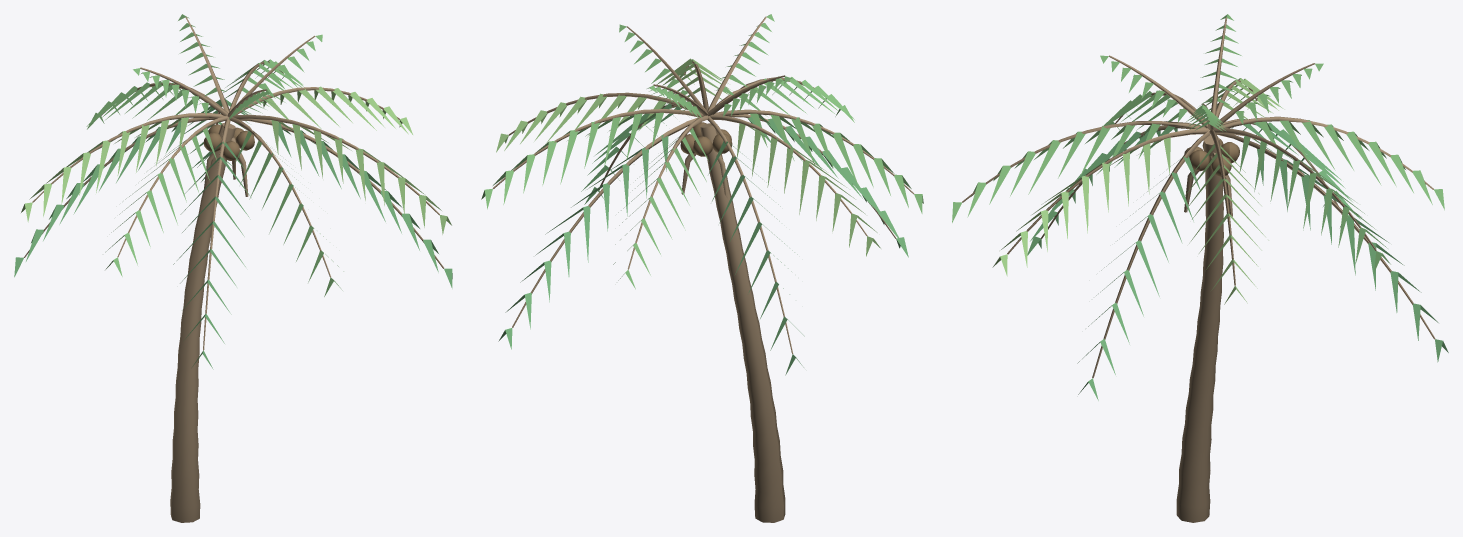
Rendered from palme_5.glb.
3 renders of one model, left to right at view 1: azimuth 30°, elevation 25°; view 2: azimuth 150°, elevation 25°; view 3: azimuth 270°, elevation 25°, orthographic. The views are drawn at different scales.
Visible parts, largest first — view 1: G_palme_5; view 2: G_palme_5; view 3: G_palme_5.
Boxes of the visible parts, <box> form: G_palme_5: <box>14,14,452,522</box>; G_palme_5: <box>481,14,923,522</box>; G_palme_5: <box>952,14,1448,522</box>.
Size of the model in its own units: 8.64 by 9.82 by 9.15.
